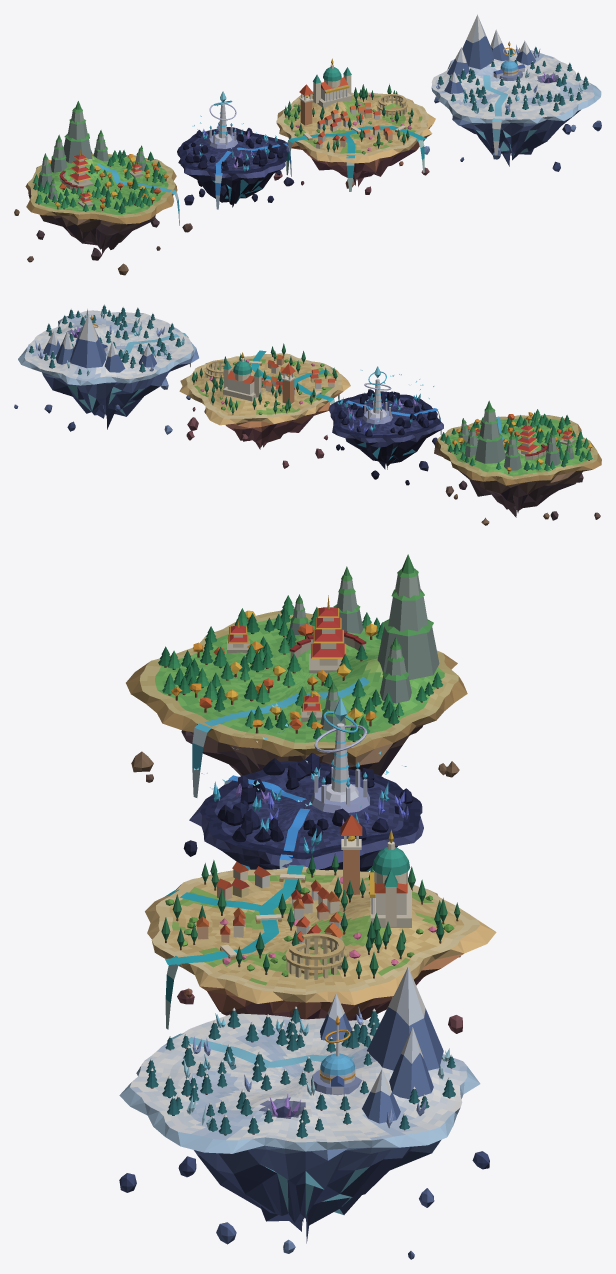
File: islands.glb
The picture shows the model from 3 angles, top to bottom: view 1: azimuth 30°, elevation 25°; view 2: azimuth 150°, elevation 25°; view 3: azimuth 270°, elevation 25°; orthographic projection. The views are drawn at different scales.
Visible parts, largest first — view 1: island_4, island_1, island_3, island_900; view 2: island_4, island_1, island_3, island_900; view 3: island_4, island_1, island_3, island_900.
Boxes of the visible parts, x1,y1,x2,y2 form: island_4: [424, 14, 601, 171]; island_1: [14, 101, 192, 275]; island_3: [273, 58, 435, 194]; island_900: [177, 91, 294, 209]; island_4: [14, 304, 198, 434]; island_1: [434, 400, 601, 525]; island_3: [179, 343, 350, 468]; island_900: [328, 366, 443, 485]; island_4: [119, 967, 489, 1259]; island_1: [126, 554, 467, 797]; island_3: [145, 814, 496, 1033]; island_900: [183, 697, 423, 871].
Bounding box in the file's own units: 42.2 × 10.62 × 12.33.
